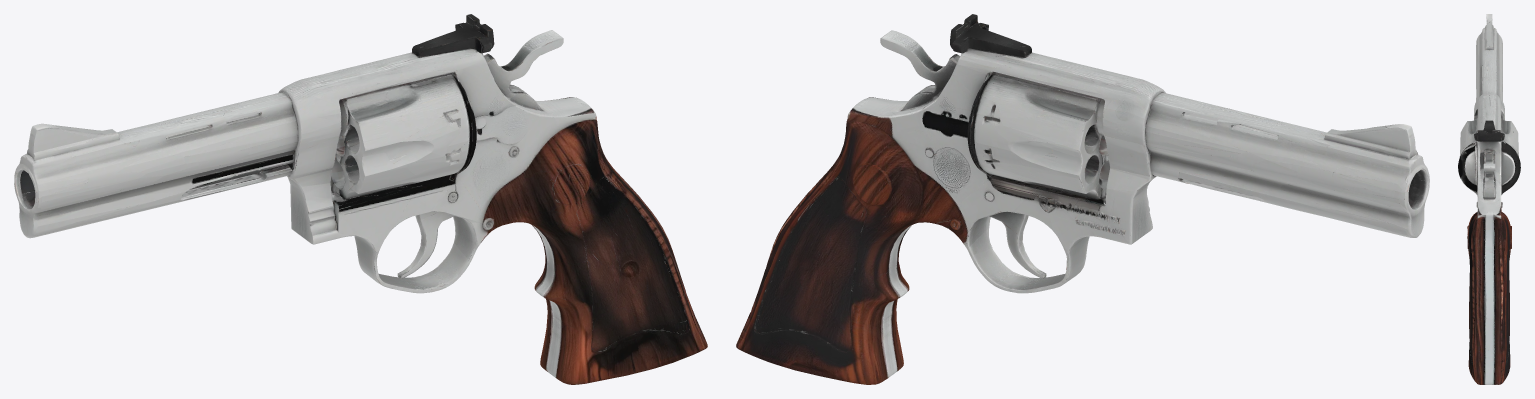
The model's file is revolver_v2.glb.
3 renders of one model, left to right at view 1: azimuth 30°, elevation 25°; view 2: azimuth 150°, elevation 25°; view 3: azimuth 270°, elevation 25°, orthographic. The views are drawn at different scales.
Bounding box in the file's own units: 1.9 × 1.01 × 0.2875.
1 material, 1 textured.
